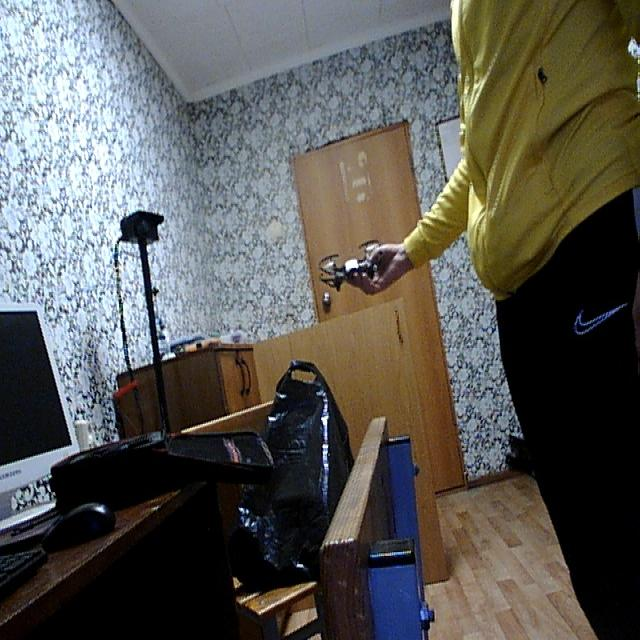drone: (315, 240, 387, 298)
